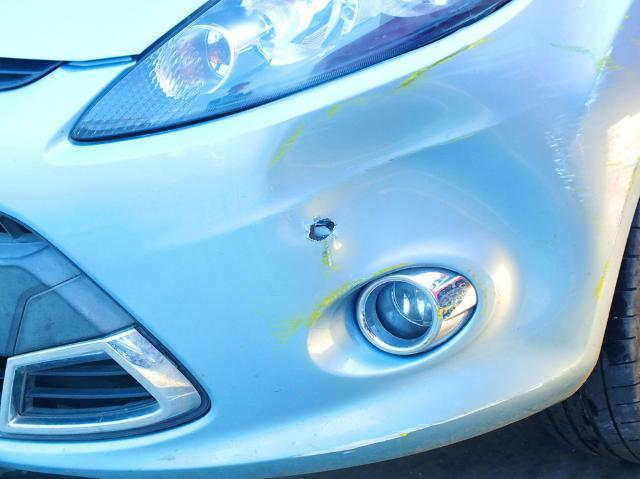Bumper: (261, 101, 588, 425)
